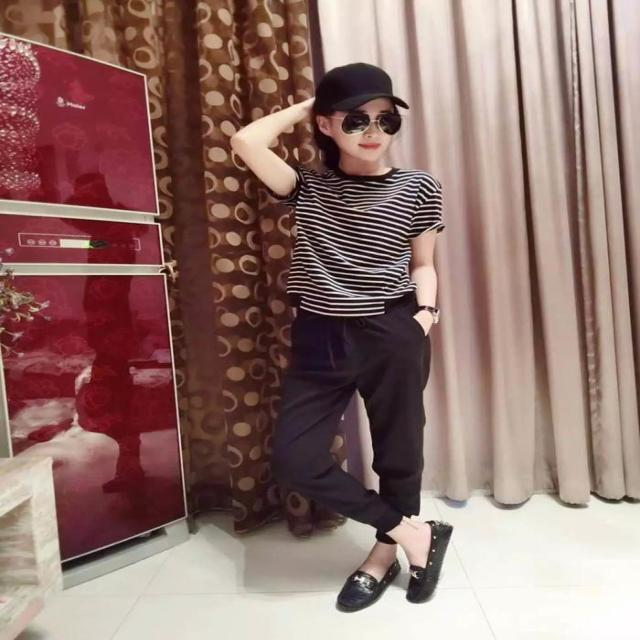short sleeve top: (278, 167, 446, 317)
trousers: (278, 290, 427, 542)
